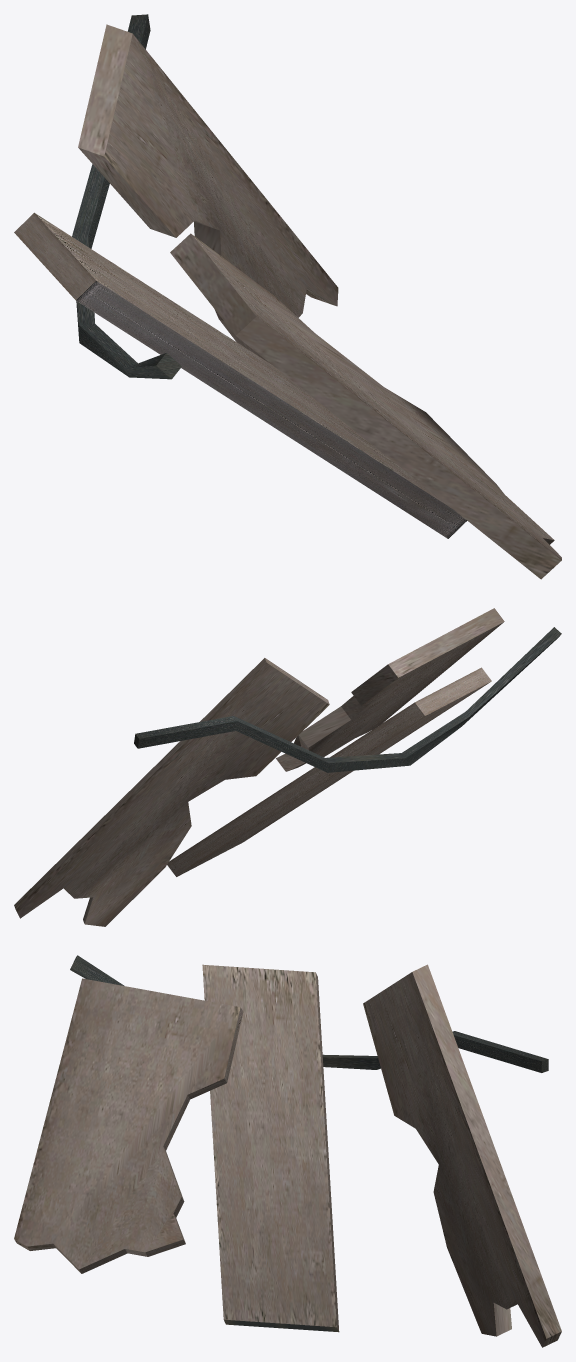
The model's file is M2_Zone4_FlyOver_Tunnel_E.glb.
The picture shows the model from 3 angles, top to bottom: view 1: azimuth 30°, elevation 25°; view 2: azimuth 150°, elevation 25°; view 3: azimuth 270°, elevation 25°; orthographic projection. The views are drawn at different scales.
Visible parts, largest first — view 1: M2_ZONE4_FLYOVER_TUNNEL_E; view 2: M2_ZONE4_FLYOVER_TUNNEL_E; view 3: M2_ZONE4_FLYOVER_TUNNEL_E.
Boxes of the visible parts, bbox=[...] form: M2_ZONE4_FLYOVER_TUNNEL_E: bbox=[14, 14, 561, 579]; M2_ZONE4_FLYOVER_TUNNEL_E: bbox=[14, 608, 561, 926]; M2_ZONE4_FLYOVER_TUNNEL_E: bbox=[14, 955, 561, 1347].
Bounding box in the file's own units: 10.05 × 8.05 × 13.39.
4 materials, 4 textured.
